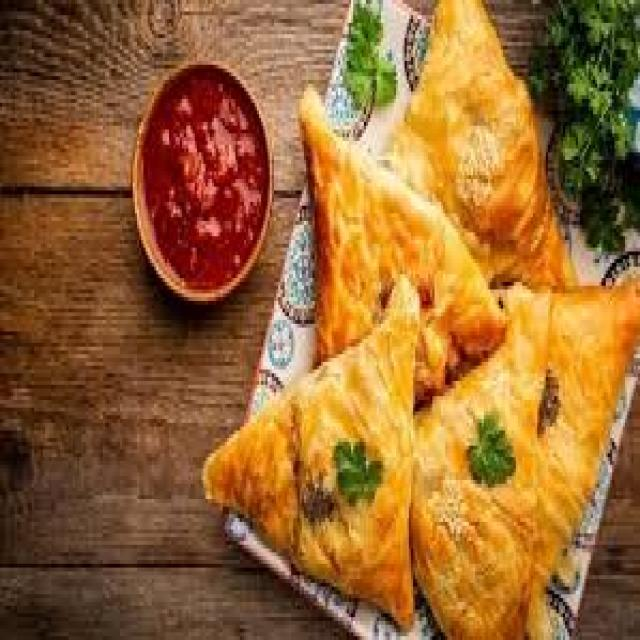SAMOSA: (202, 282, 424, 636), (298, 81, 511, 415), (407, 292, 555, 636)
